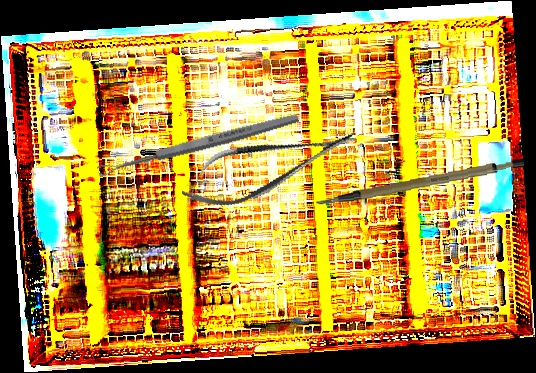Micro Scissor: (173, 111, 365, 221)
Scalpel Handle: (314, 155, 526, 207)
Surgical Spoon: (96, 110, 300, 179)
